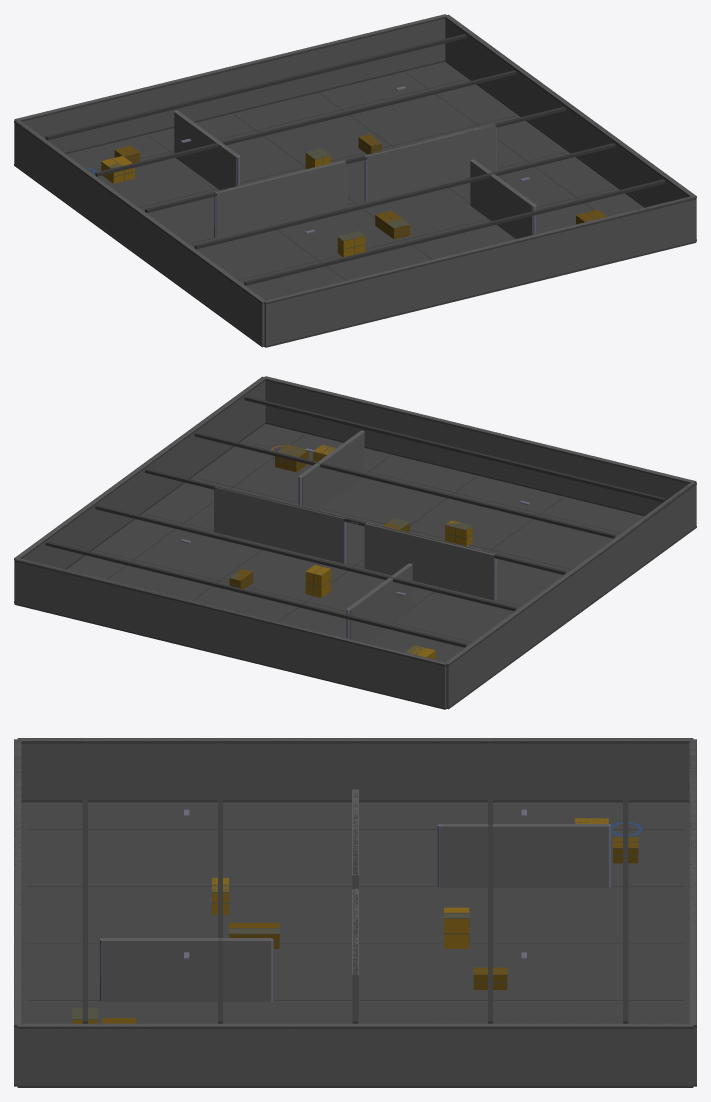
Rendered from warehouse.glb.
3 views of the same model, one above another, from view 1: azimuth 30°, elevation 25°; view 2: azimuth 150°, elevation 25°; view 3: azimuth 270°, elevation 25° (orthographic). The views are drawn at different scales.
Visible parts, largest first — view 1: floor, wall_south, wall_north, wall_west, wall_east, iwall_west, iwall_east, iwall_nw, iwall_se, roof_beam_-16, roof_beam_16, roof_beam_8 (+11 smaller); view 2: floor, wall_north, wall_south, wall_west, wall_east, iwall_east, iwall_west, iwall_se, iwall_nw, roof_beam_16, roof_beam_-16, roof_beam_-8 (+11 smaller); view 3: floor, wall_east, wall_west, iwall_nw, iwall_se, wall_west_trim_top, wall_south, wall_north, wall_east_trim_top, wall_east_trim_bot, wall_west_trim_bot, roof_beam_-16 (+12 smaller).
Part boxes in pixels (box(x1,y1,x2,y2)): floor: box(66, 62, 644, 299); wall_south: box(264, 196, 695, 345); wall_north: box(15, 14, 446, 152); wall_west: box(14, 119, 264, 346); wall_east: box(445, 15, 696, 239); iwall_west: box(215, 160, 345, 238); iwall_east: box(366, 123, 496, 201); iwall_nw: box(174, 111, 240, 190); iwall_se: box(470, 159, 536, 238); roof_beam_-16: box(45, 34, 466, 140); roof_beam_16: box(244, 179, 665, 285); roof_beam_8: box(194, 143, 615, 249); floor: box(66, 424, 644, 661); wall_north: box(15, 558, 446, 707); wall_south: box(264, 376, 695, 514); wall_west: box(445, 481, 696, 709); wall_east: box(14, 377, 266, 602); iwall_east: box(214, 485, 344, 563); iwall_west: box(365, 522, 495, 600); iwall_se: box(298, 431, 364, 510); iwall_nw: box(346, 563, 412, 642); roof_beam_16: box(244, 396, 665, 502); roof_beam_-16: box(45, 541, 466, 647); roof_beam_-8: box(95, 505, 516, 611); floor: box(21, 802, 689, 1023); wall_east: box(17, 1023, 693, 1085); wall_west: box(18, 738, 692, 799); iwall_nw: box(440, 824, 608, 887); iwall_se: box(102, 938, 270, 1001); wall_west_trim_top: box(17, 738, 693, 743); wall_south: box(14, 739, 21, 1083); wall_north: box(689, 739, 696, 1083); wall_east_trim_top: box(17, 1023, 693, 1028); wall_east_trim_bot: box(17, 1085, 693, 1087); wall_west_trim_bot: box(21, 800, 689, 802); roof_beam_-16: box(623, 743, 628, 1023).
Bounding box in the file's own units: 40.45 × 4.01 × 40.45.
